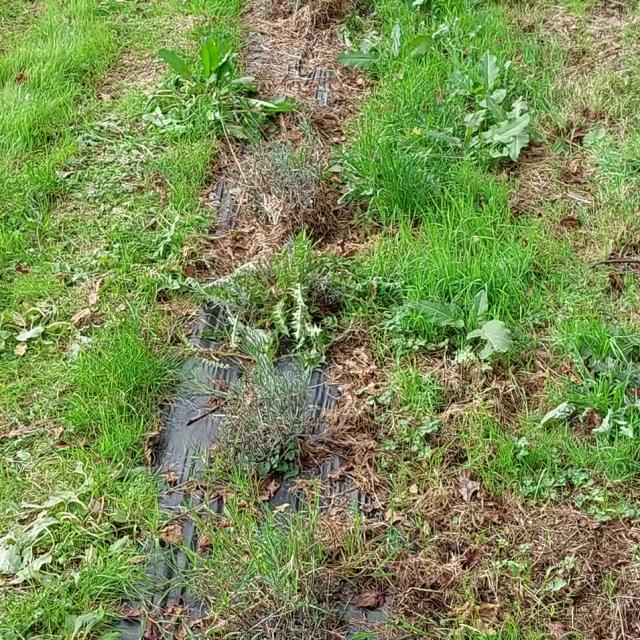organic waste: (327, 22, 451, 97), (417, 268, 532, 346), (0, 501, 94, 574), (156, 43, 244, 119), (406, 94, 504, 158), (0, 298, 65, 364), (484, 92, 549, 155), (450, 43, 514, 96)
